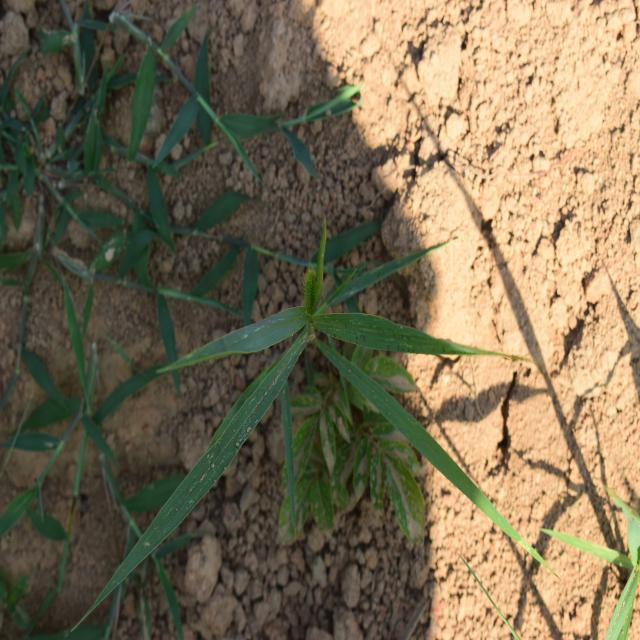green_foxtail: (113, 237, 530, 548)
